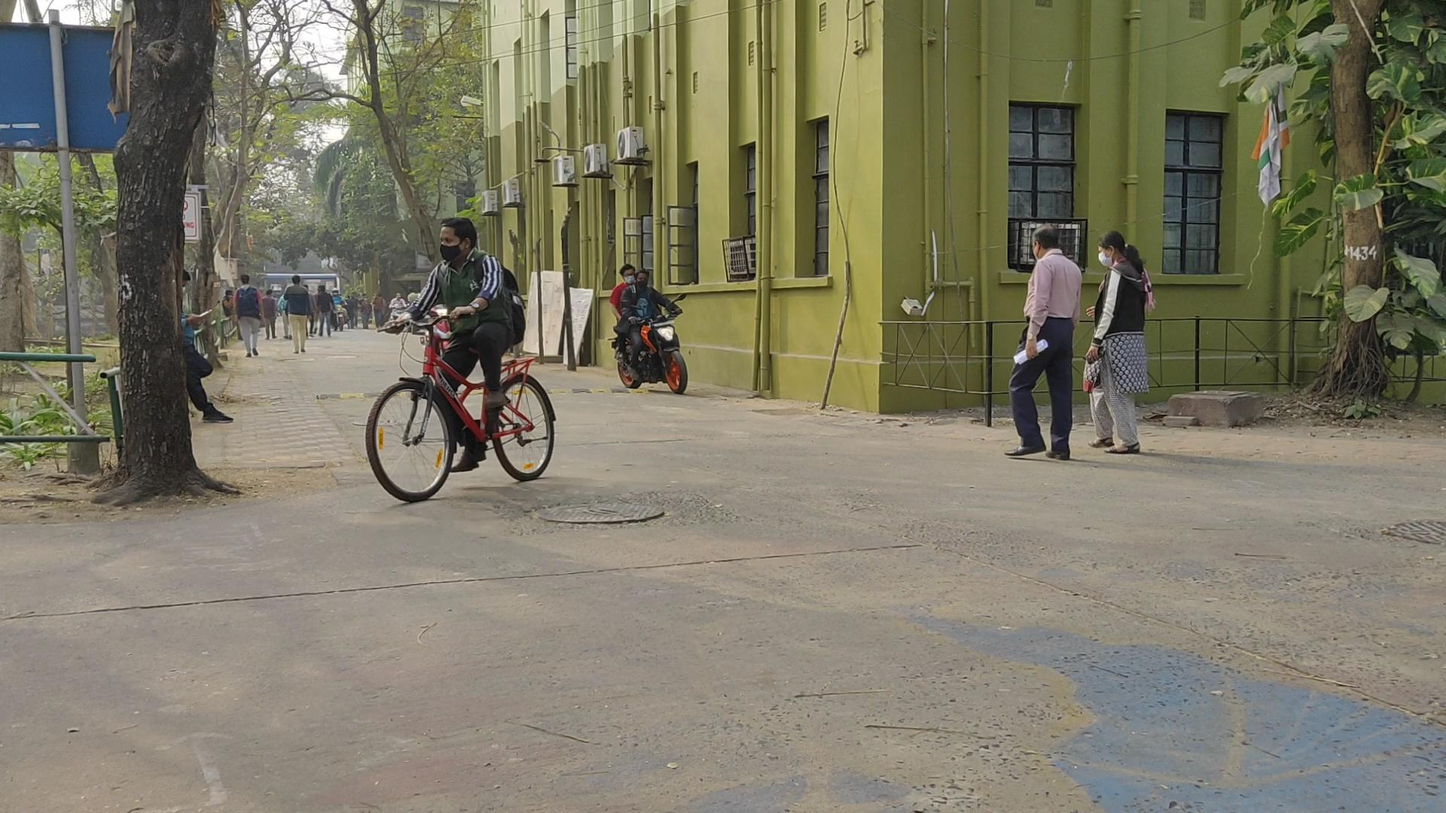bike: (365, 220, 555, 504), (607, 261, 693, 393)
